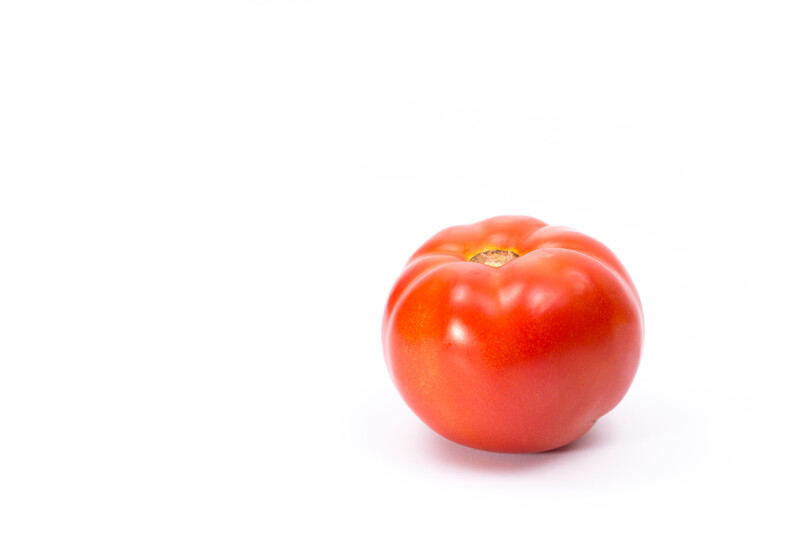rotten tomato: (366, 197, 657, 465)
